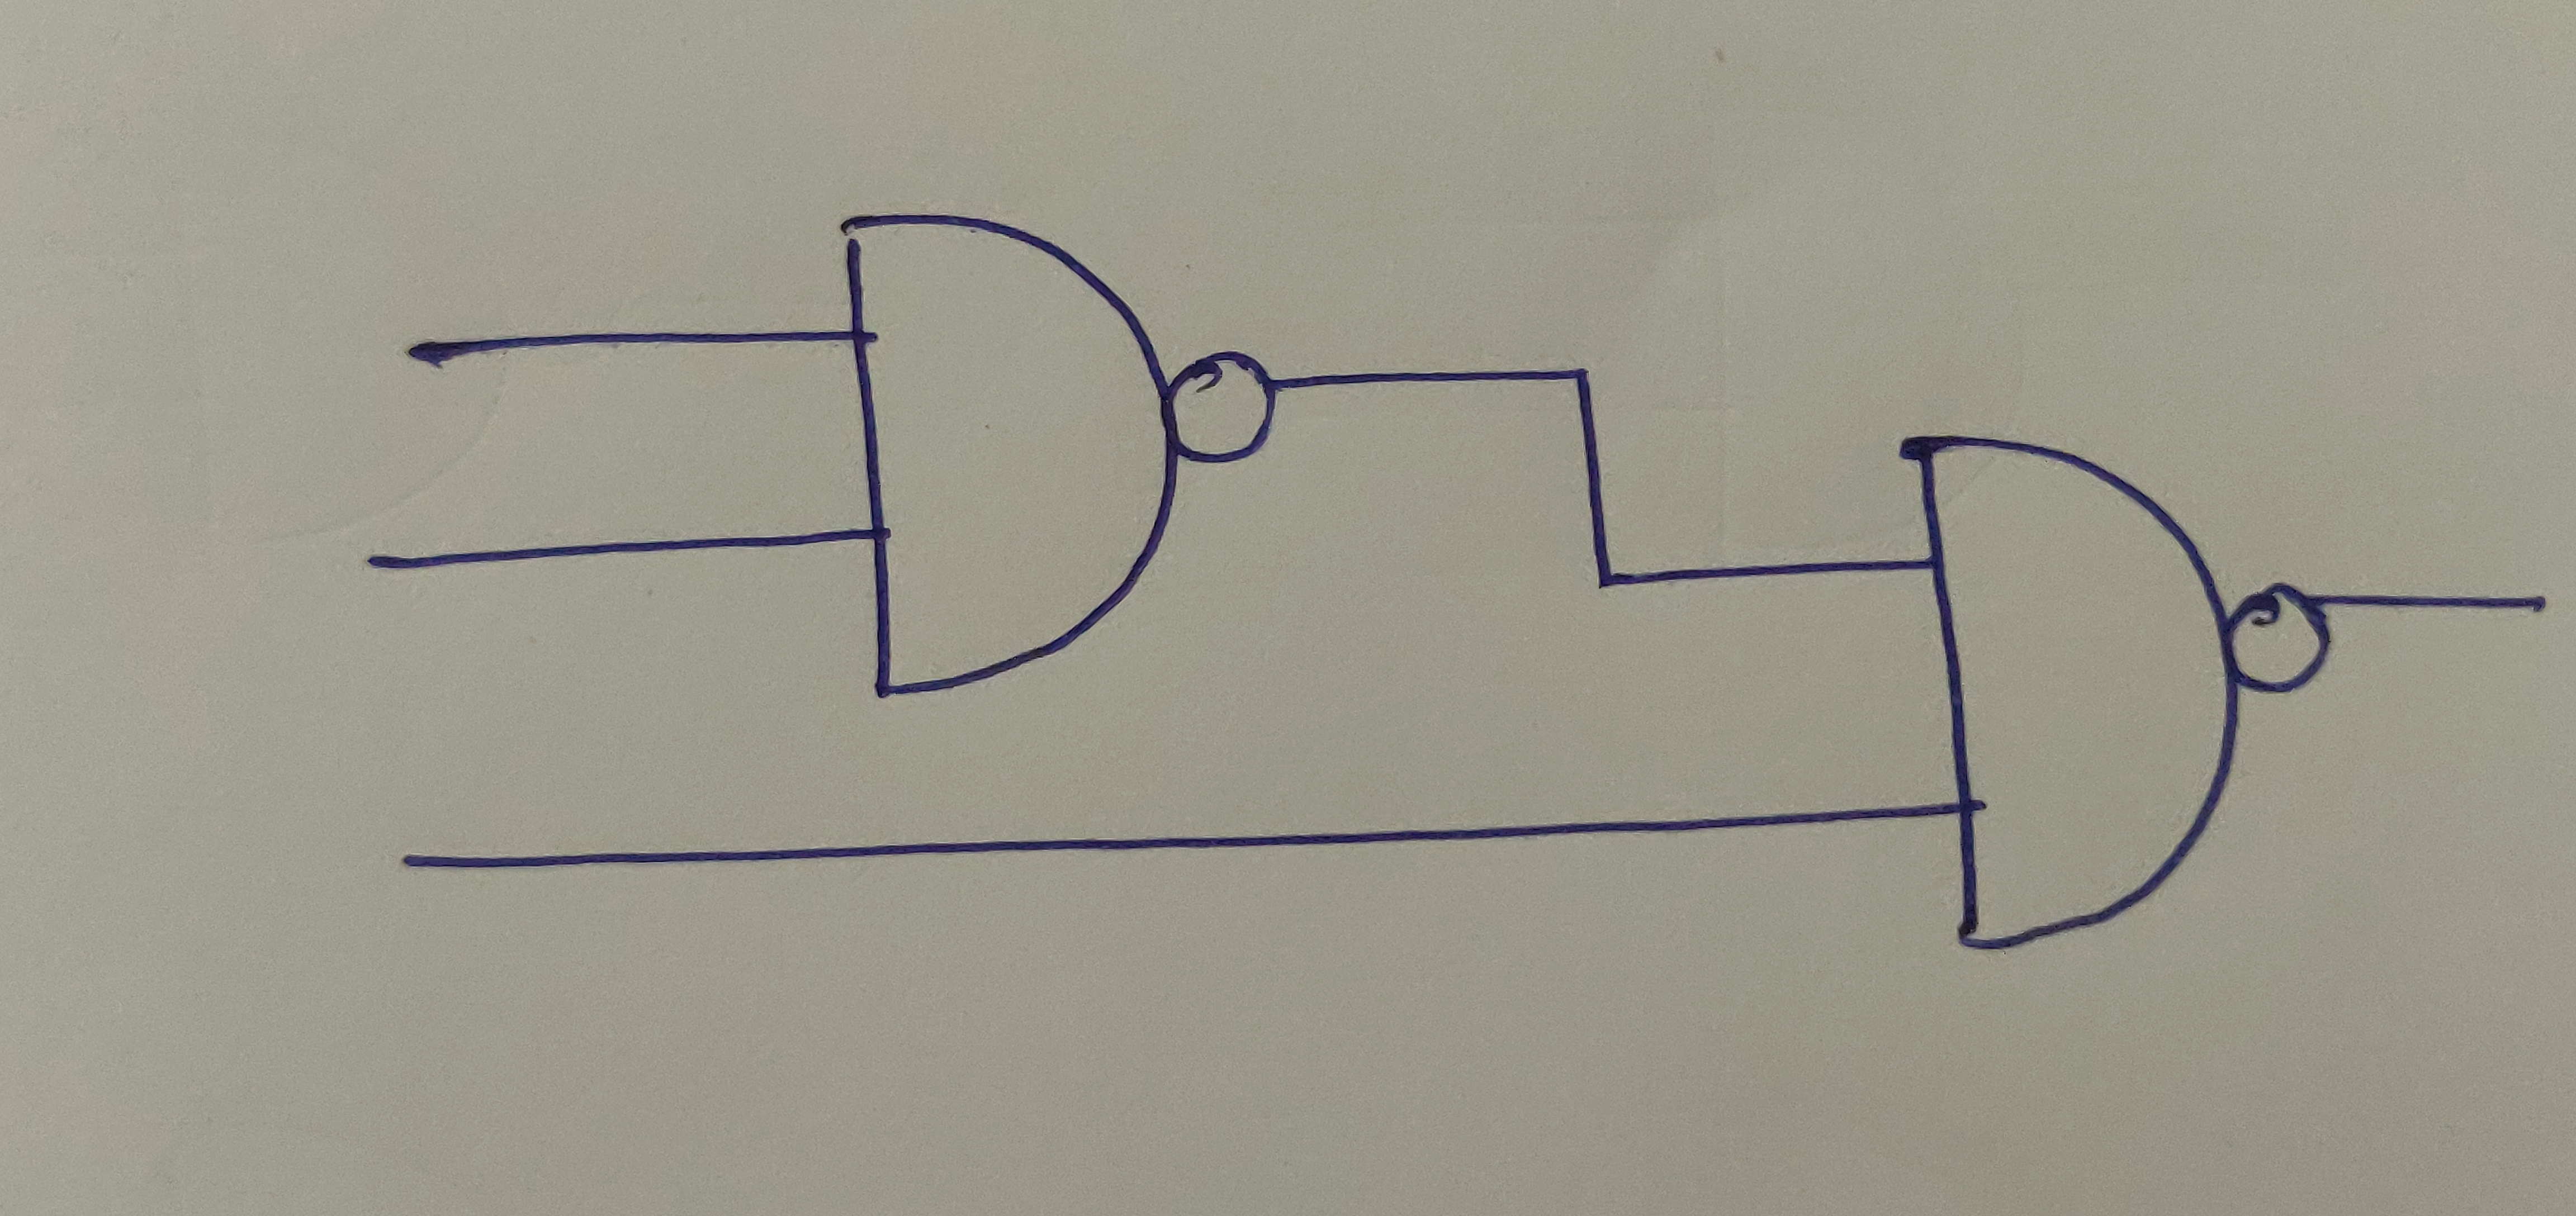and: (1899, 429, 2239, 955), (841, 209, 1175, 702)
not: (1168, 352, 1280, 467), (2231, 588, 2336, 697)
